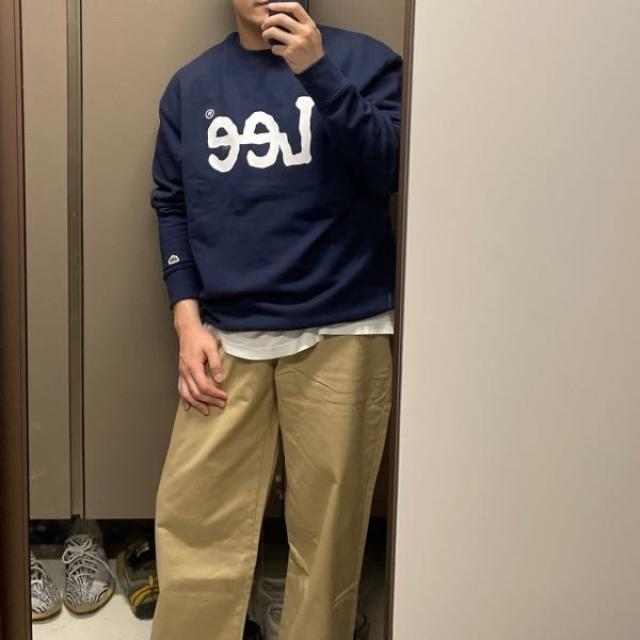cottonpants: (155, 321, 394, 637)
mtm: (149, 18, 398, 332)
